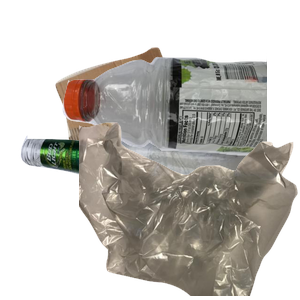cardboard: (53, 45, 221, 204)
glass: (18, 124, 258, 300)
plastic: (60, 53, 300, 201)
trash: (79, 120, 300, 300)
